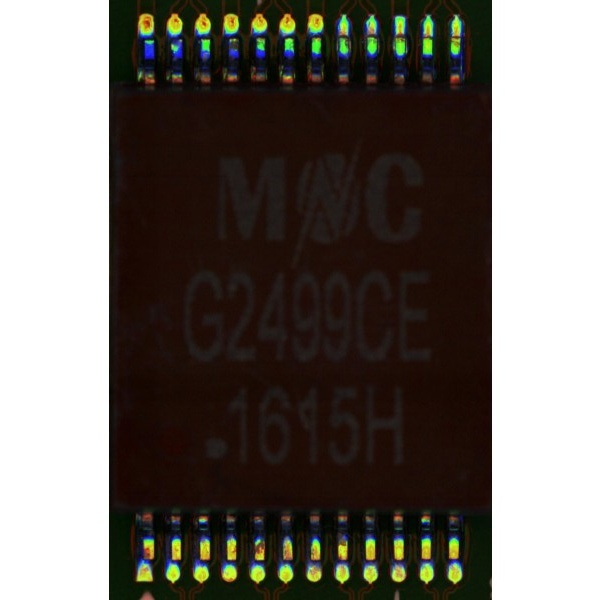Bad_podu: (423, 25, 431, 47), (396, 23, 403, 46), (339, 27, 347, 45), (452, 27, 458, 47), (368, 27, 374, 46)
